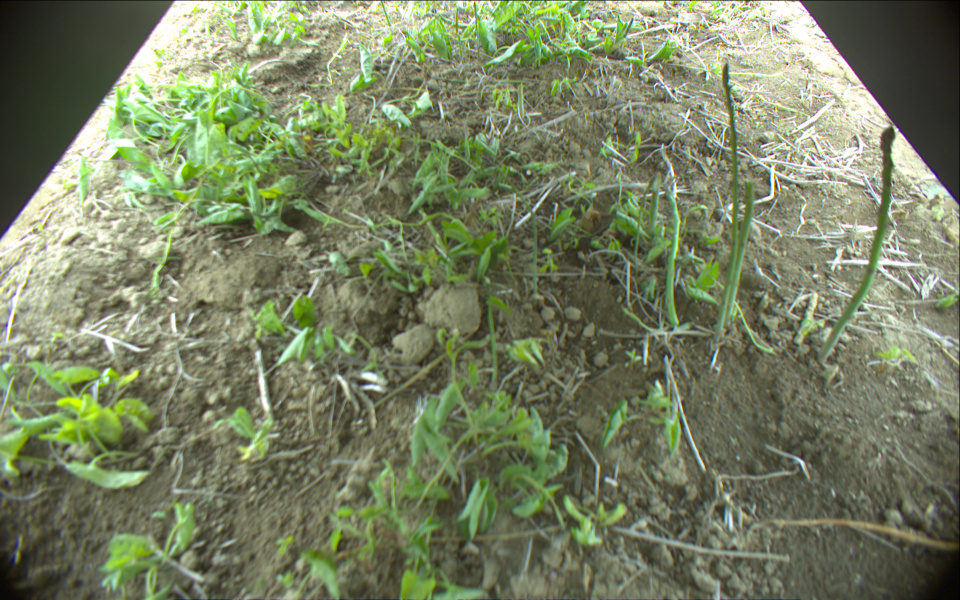aspa: (817, 126, 896, 363), (715, 65, 739, 335), (725, 180, 756, 327), (665, 190, 681, 327), (647, 173, 659, 237), (382, 1, 394, 28), (473, 1, 479, 33), (455, 5, 460, 34)
